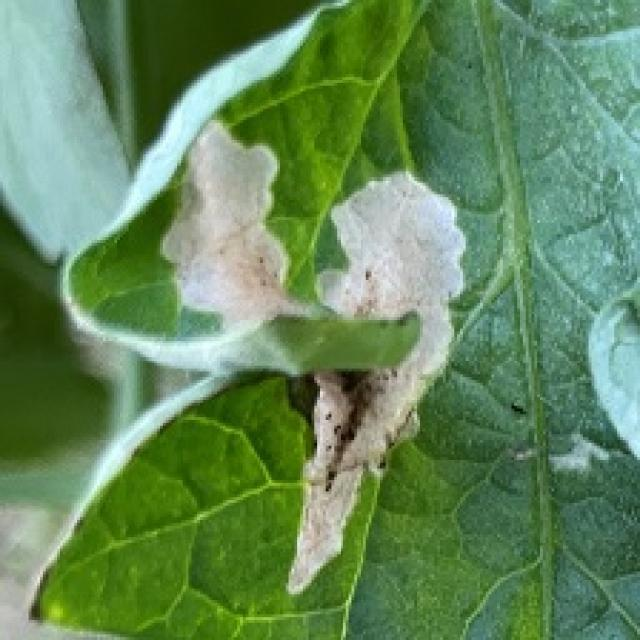Tuta absoluta: (264, 162, 479, 614), (137, 110, 315, 342), (550, 433, 608, 473)
